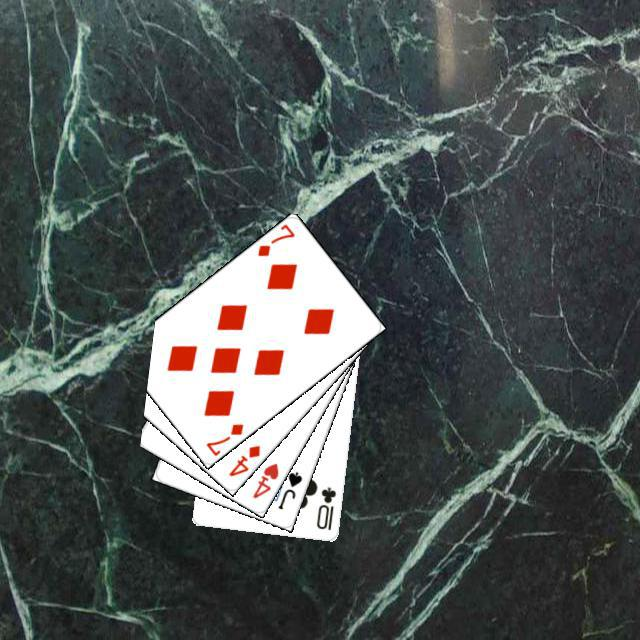10c: (311, 482, 338, 532)
4d: (224, 440, 262, 478)
4h: (247, 458, 280, 500)
7d: (201, 418, 245, 457), (252, 220, 297, 258)
Js: (273, 467, 304, 511)
